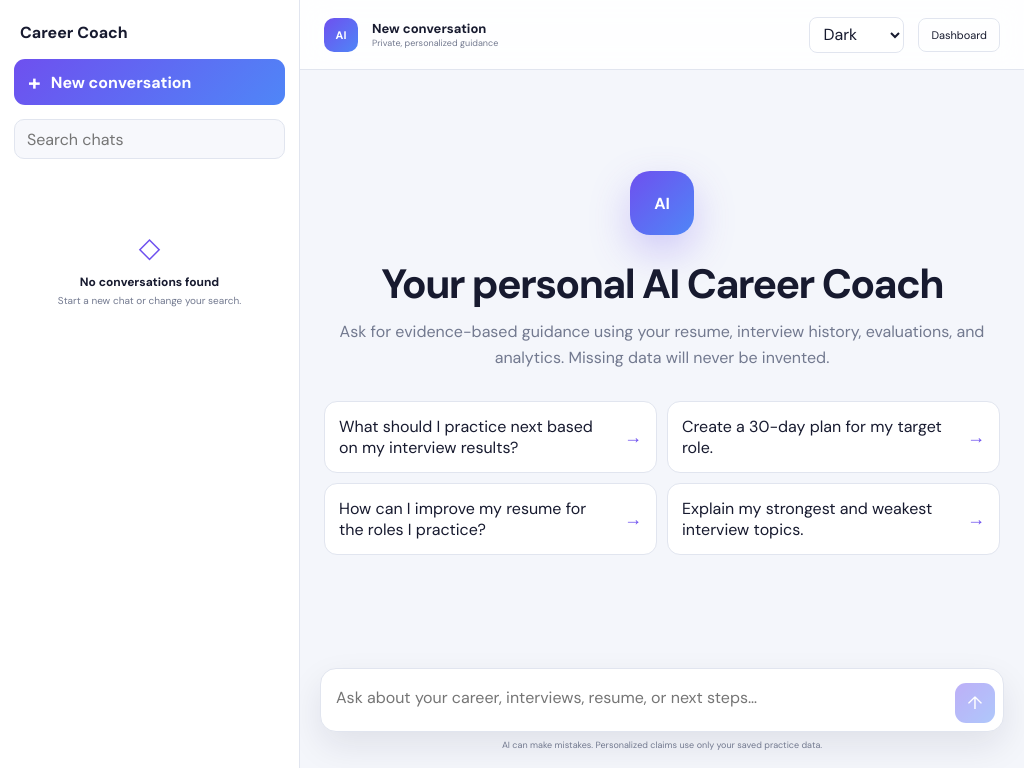
Phase 13 Career Coach UI › renders suggestions and streams a new response into the chat
Check: the heading "Your personal AI Career Coach" is shown, box [381,257,943,311]
Type "Make a plan" into the text box named "Message Career Coach" at x=646, y=698, box [336,677,955,718]
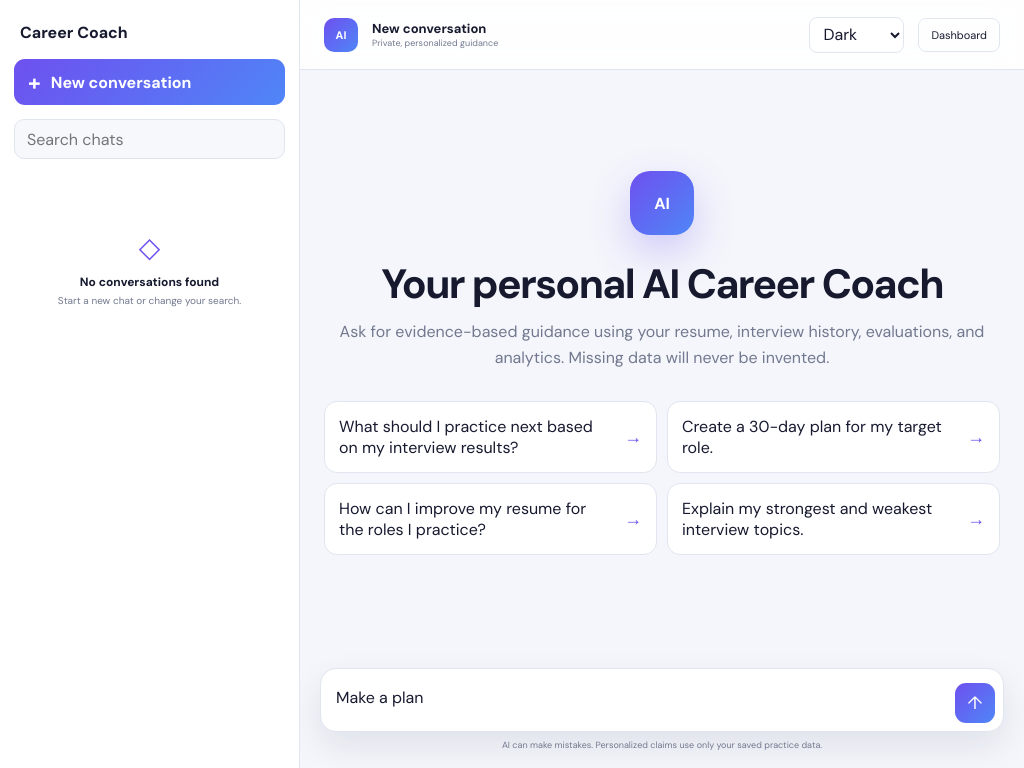
Click the button named "Send message" at x=975, y=703, box [955,683,995,723]
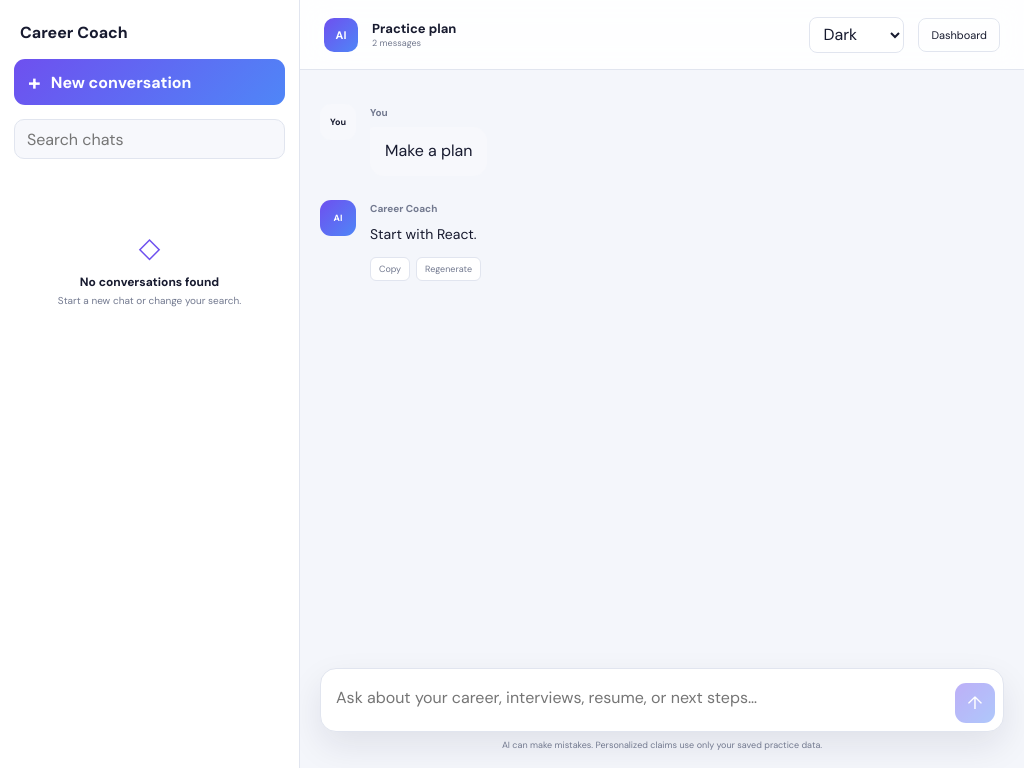
Check: the text "Start with React." is shown, box [370,225,476,243]
